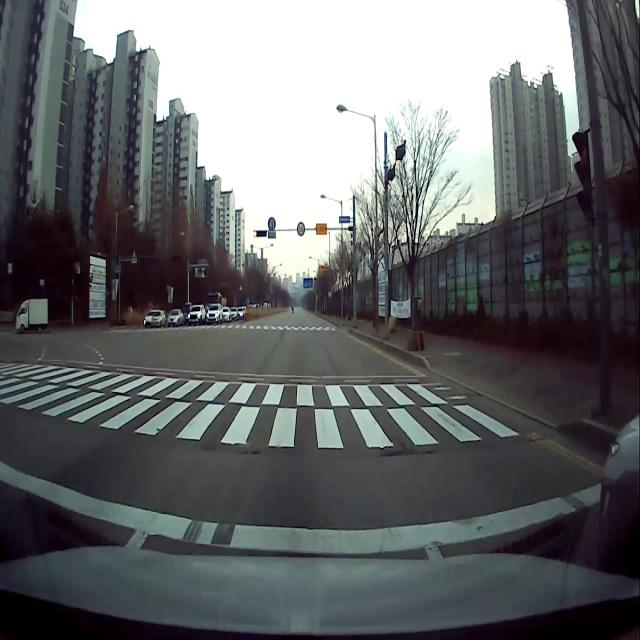Red Light: (253, 230, 257, 237)
